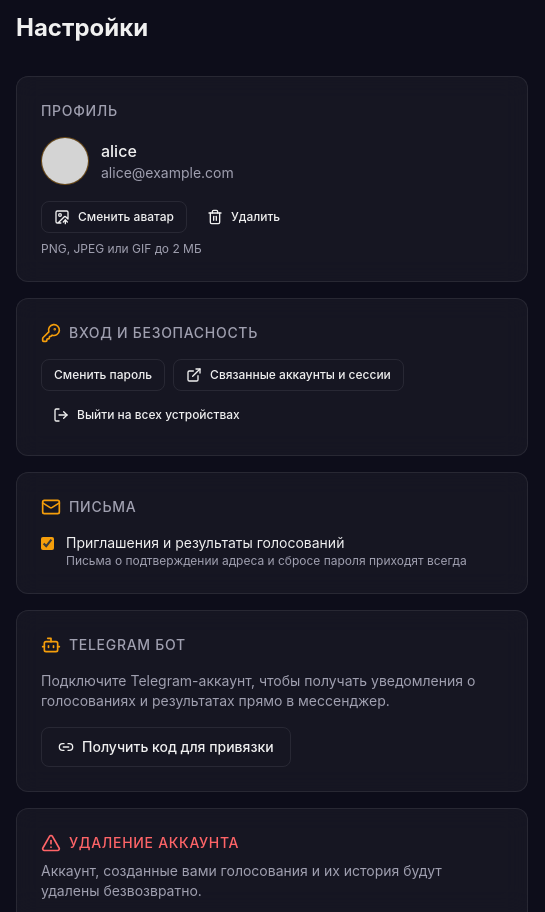
Test: SettingsPage › avatar › removes the avatar and falls back to the initial
Click the button "Удалить": click(244, 217) [195,201,292,233]
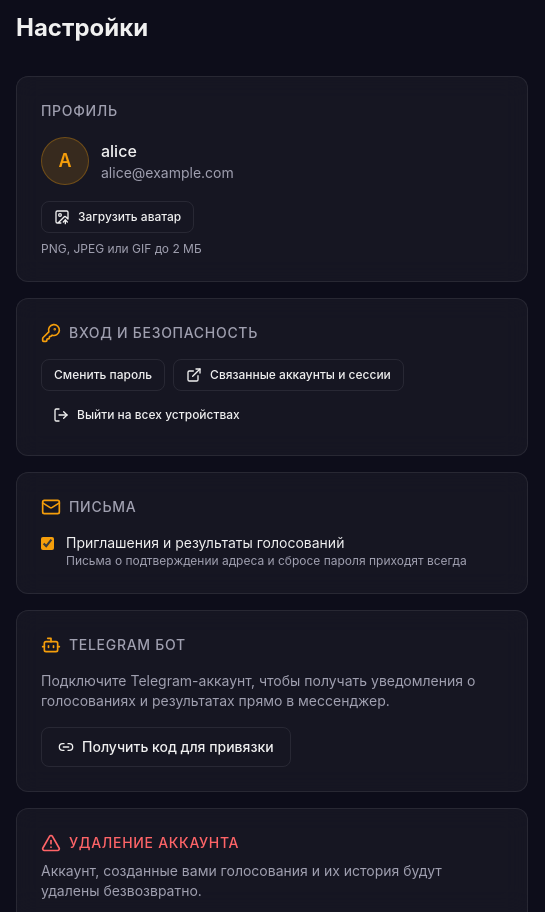
Check: the text "A" is shown, box [41,137,89,185]
Check: the picture is gone
